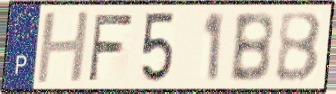1: (201, 11, 225, 85)
5: (137, 10, 179, 85)
B: (274, 10, 324, 85), (227, 10, 276, 84)
F: (85, 11, 135, 83)
H: (34, 8, 93, 86)
